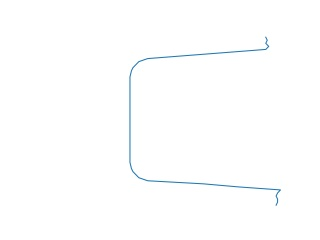aeolianDune: (122, 34, 286, 209)
